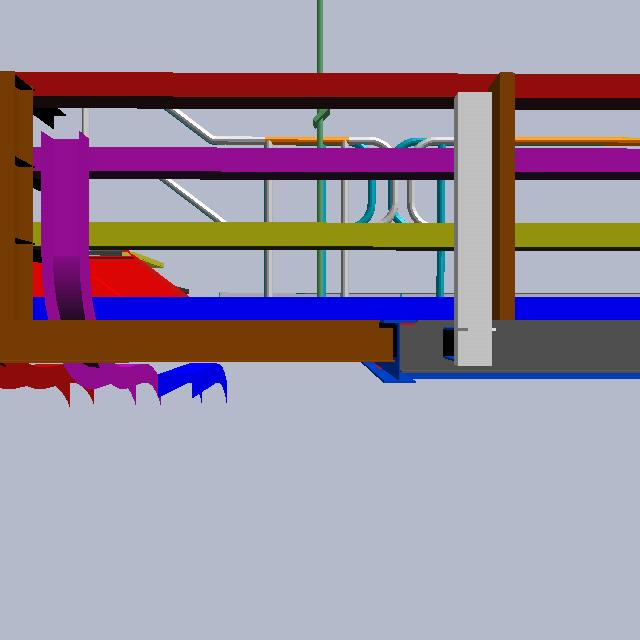Poste: (313, 1, 328, 317)
Soporte: (438, 74, 515, 394)
